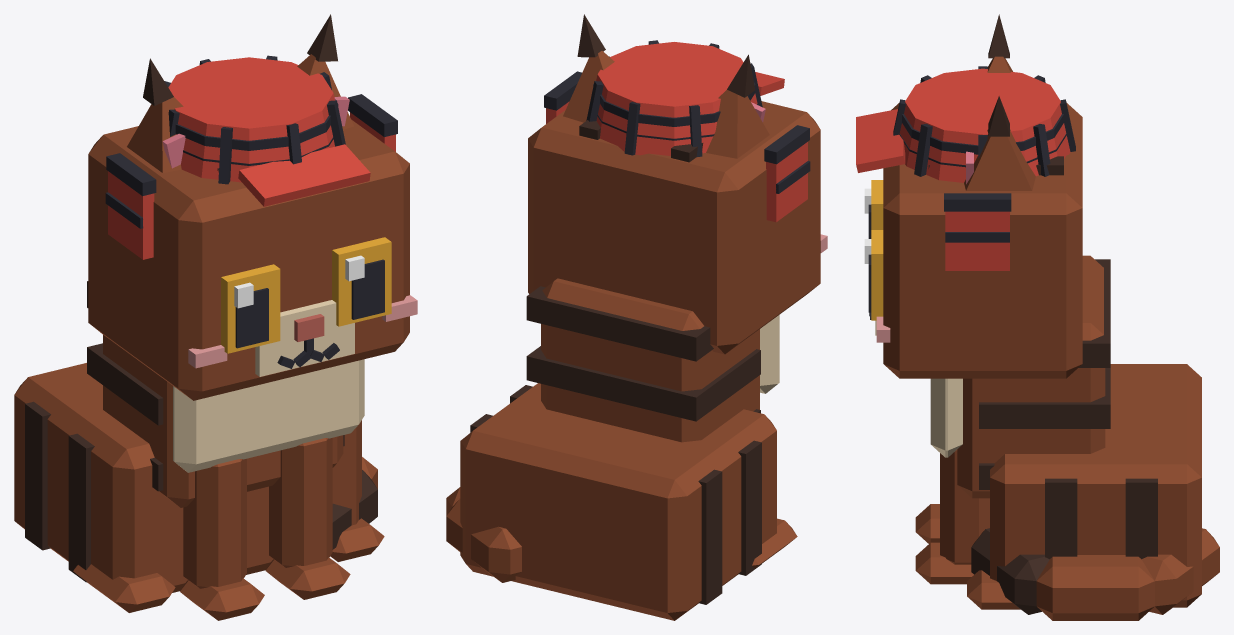
The model's file is CatCafe_Cat_ForestCat_Sit.glb.
3 views of the same model, side by side, from view 1: azimuth 30°, elevation 25°; view 2: azimuth 150°, elevation 25°; view 3: azimuth 270°, elevation 25° (orthographic). The views are drawn at different scales.
Parts seen in each view (by area): view 1: CatCafe_Cat_ForestCat_Sit_Body, CatCafe_Cat_ForestCat_Sit_Head, CatCafe_Cat_ForestCat_Sit_Prop, CatCafe_Cat_ForestCat_Sit_LegF1, CatCafe_Cat_ForestCat_Sit_LegF2, CatCafe_Cat_ForestCat_Sit_Eye2, CatCafe_Cat_ForestCat_Sit_Eye1, CatCafe_Cat_ForestCat_Sit_EarR, CatCafe_Cat_ForestCat_Sit_EarL, CatCafe_Cat_ForestCat_Sit_Tail; view 2: CatCafe_Cat_ForestCat_Sit_Body, CatCafe_Cat_ForestCat_Sit_Head, CatCafe_Cat_ForestCat_Sit_Prop, CatCafe_Cat_ForestCat_Sit_EarR, CatCafe_Cat_ForestCat_Sit_Tail, CatCafe_Cat_ForestCat_Sit_EarL; view 3: CatCafe_Cat_ForestCat_Sit_Body, CatCafe_Cat_ForestCat_Sit_Head, CatCafe_Cat_ForestCat_Sit_Prop, CatCafe_Cat_ForestCat_Sit_Tail, CatCafe_Cat_ForestCat_Sit_LegF1, CatCafe_Cat_ForestCat_Sit_EarL, CatCafe_Cat_ForestCat_Sit_Eye1, CatCafe_Cat_ForestCat_Sit_Eye2, CatCafe_Cat_ForestCat_Sit_EarR, CatCafe_Cat_ForestCat_Sit_LegF2.
Boxes of the visible parts, x1,y1,x2,y2 form: CatCafe_Cat_ForestCat_Sit_Body: [14, 281, 384, 612]; CatCafe_Cat_ForestCat_Sit_Head: [88, 119, 417, 400]; CatCafe_Cat_ForestCat_Sit_Prop: [105, 55, 397, 259]; CatCafe_Cat_ForestCat_Sit_LegF1: [265, 438, 350, 599]; CatCafe_Cat_ForestCat_Sit_LegF2: [180, 458, 264, 620]; CatCafe_Cat_ForestCat_Sit_Eye2: [221, 264, 280, 353]; CatCafe_Cat_ForestCat_Sit_Eye1: [332, 237, 391, 326]; CatCafe_Cat_ForestCat_Sit_EarR: [127, 58, 185, 172]; CatCafe_Cat_ForestCat_Sit_EarL: [297, 14, 353, 129]; CatCafe_Cat_ForestCat_Sit_Tail: [332, 457, 377, 549]; CatCafe_Cat_ForestCat_Sit_Body: [460, 278, 797, 620]; CatCafe_Cat_ForestCat_Sit_Head: [528, 101, 827, 354]; CatCafe_Cat_ForestCat_Sit_Prop: [544, 40, 810, 222]; CatCafe_Cat_ForestCat_Sit_EarR: [706, 54, 769, 158]; CatCafe_Cat_ForestCat_Sit_Tail: [446, 487, 521, 582]; CatCafe_Cat_ForestCat_Sit_EarL: [563, 14, 614, 122]; CatCafe_Cat_ForestCat_Sit_Body: [930, 255, 1201, 609]; CatCafe_Cat_ForestCat_Sit_Head: [869, 102, 1082, 378]; CatCafe_Cat_ForestCat_Sit_Prop: [856, 66, 1075, 270]; CatCafe_Cat_ForestCat_Sit_Tail: [971, 528, 1219, 620]; CatCafe_Cat_ForestCat_Sit_LegF1: [915, 449, 989, 584]; CatCafe_Cat_ForestCat_Sit_EarL: [964, 96, 1035, 190]; CatCafe_Cat_ForestCat_Sit_Eye1: [864, 230, 883, 320]; CatCafe_Cat_ForestCat_Sit_Eye2: [864, 180, 883, 238]; CatCafe_Cat_ForestCat_Sit_EarR: [987, 14, 1012, 72]; CatCafe_Cat_ForestCat_Sit_LegF2: [915, 504, 939, 543].
Size of the model in its own units: 1.36 by 2.35 by 1.54.
1 material, 1 textured.
